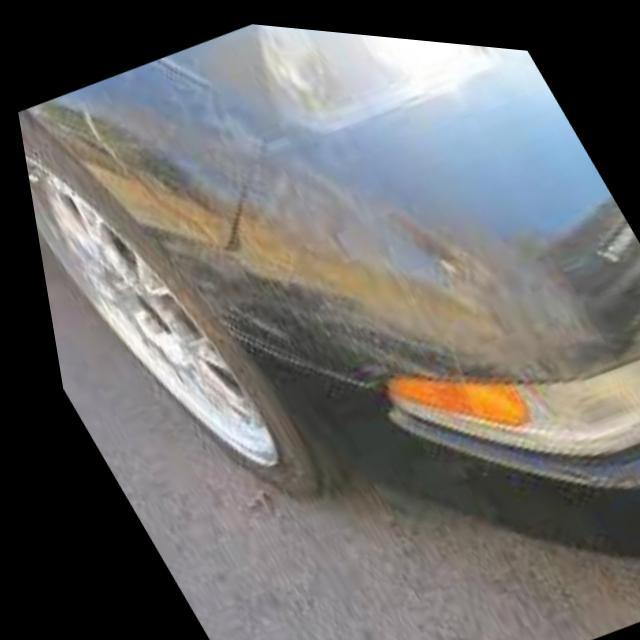rub: (47, 79, 602, 385)
